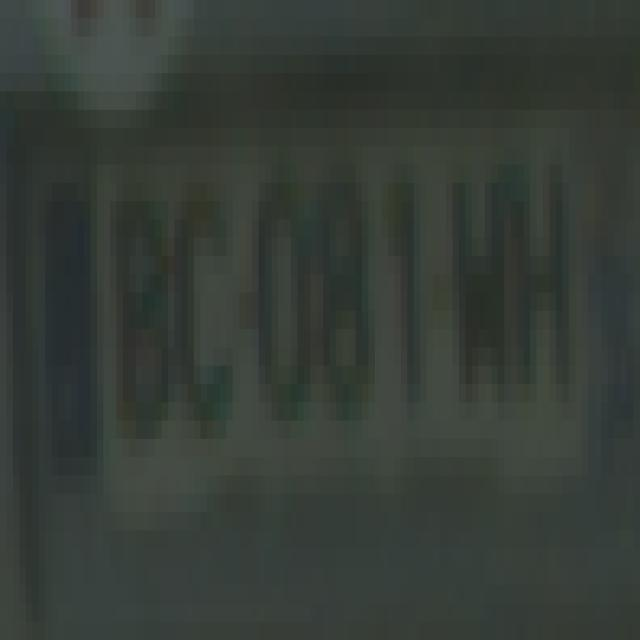Autre: (34, 109, 618, 524)
